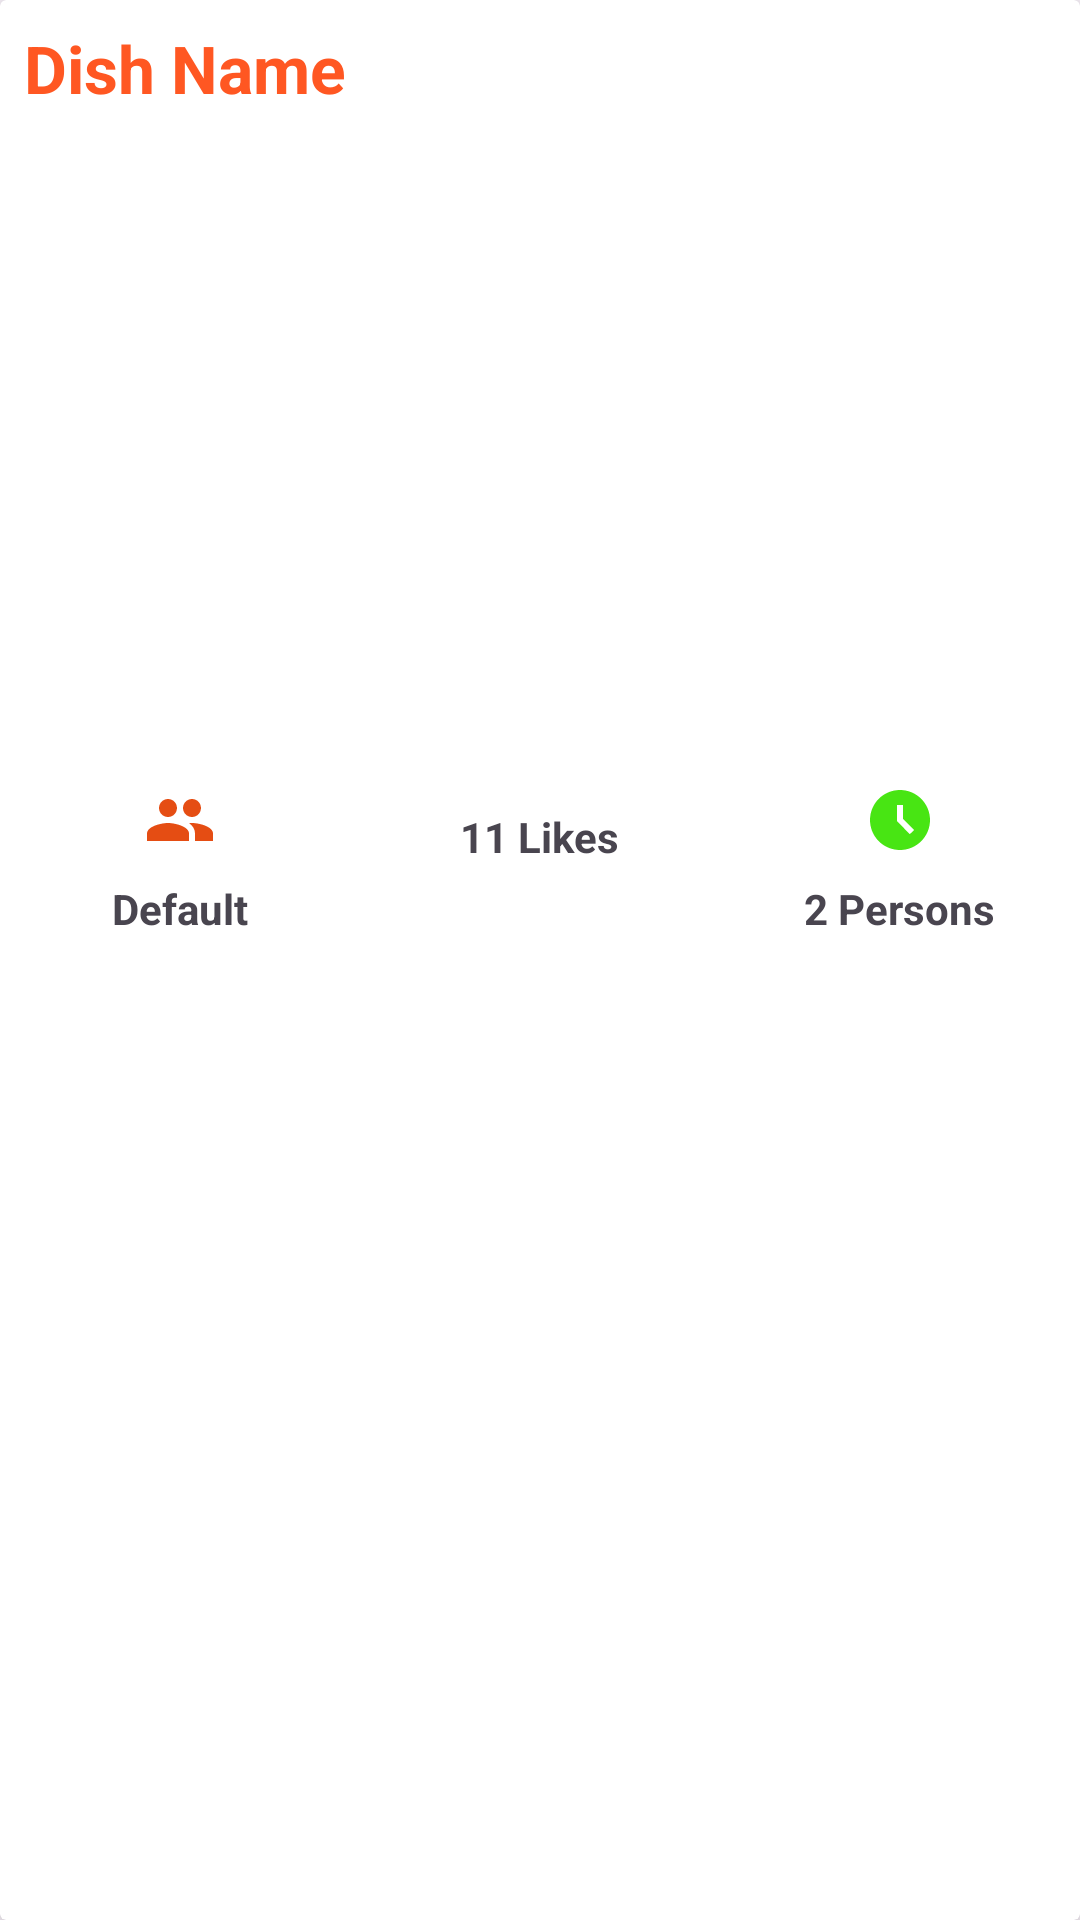

Where to tap for icons on this 1080×1920 app screen, as (x,y):
duration: (900,820)
servings: (180,820)
